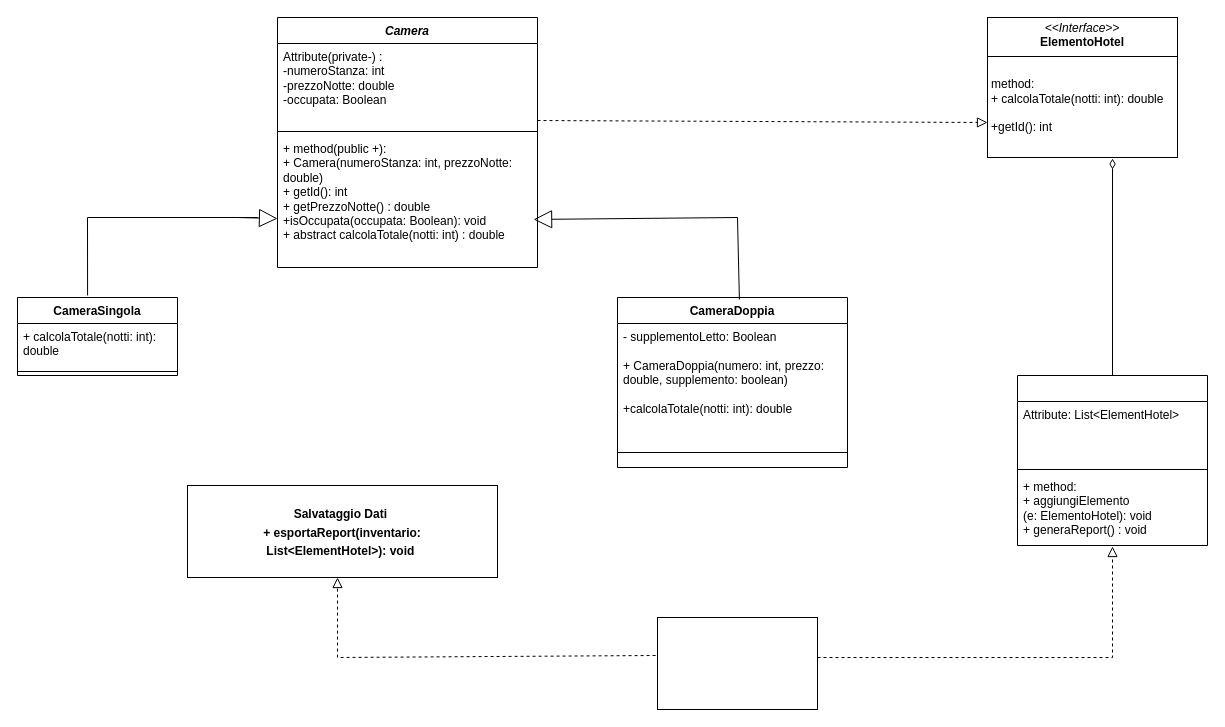
This 1225x727 diagram has some shape labels left out. The box of each missing label's shape, as (x1, y1, x2, y2) in pixels:
GestoreReception: (1016, 374, 1208, 546)
Main: (656, 616, 818, 710)
